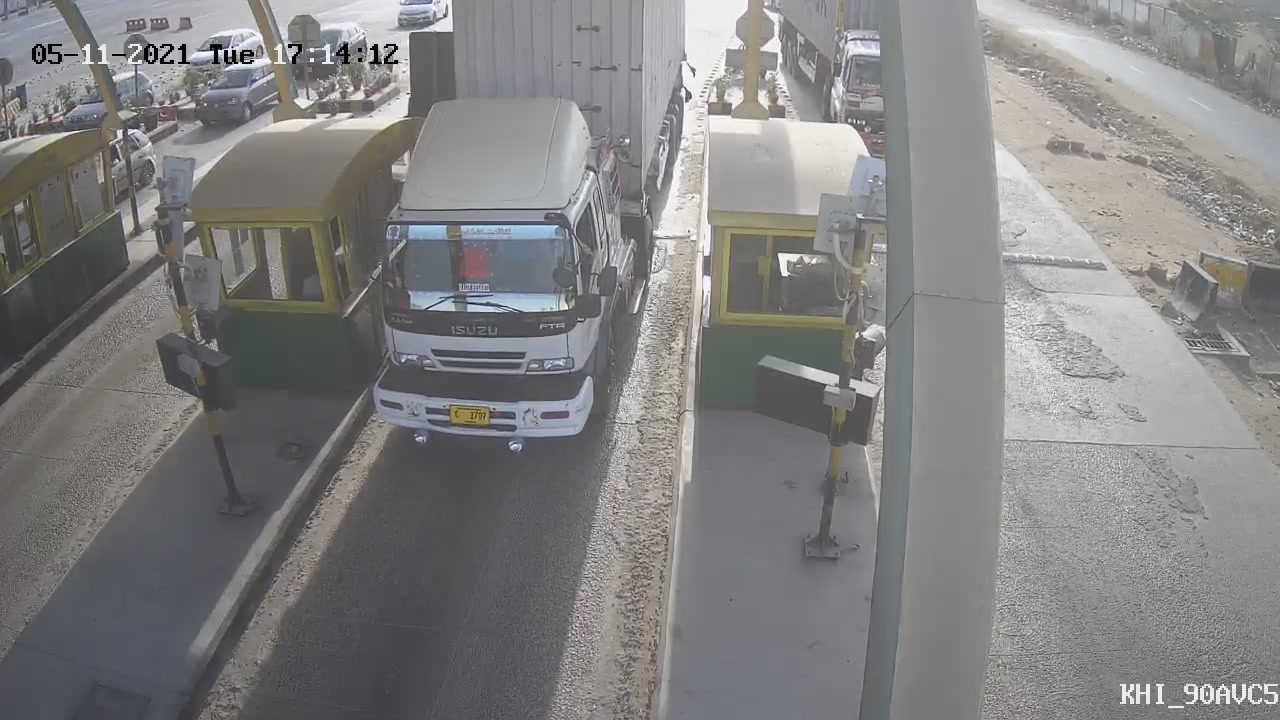F6: (317, 3, 704, 487)
